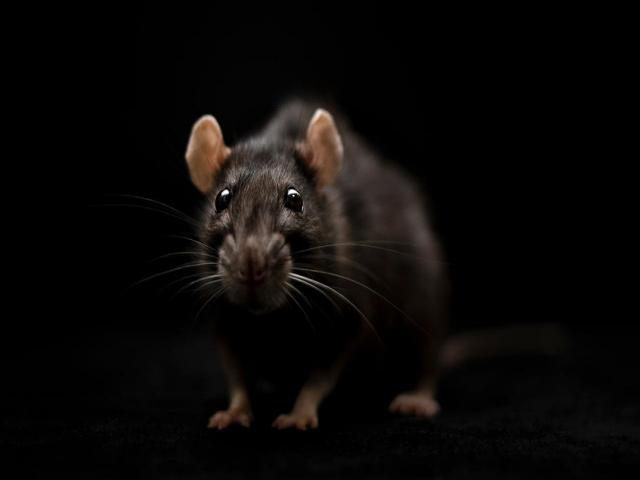Tikus: (183, 103, 467, 428)
